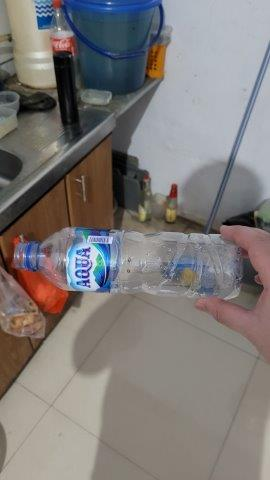botolplastik: (13, 227, 243, 305)
